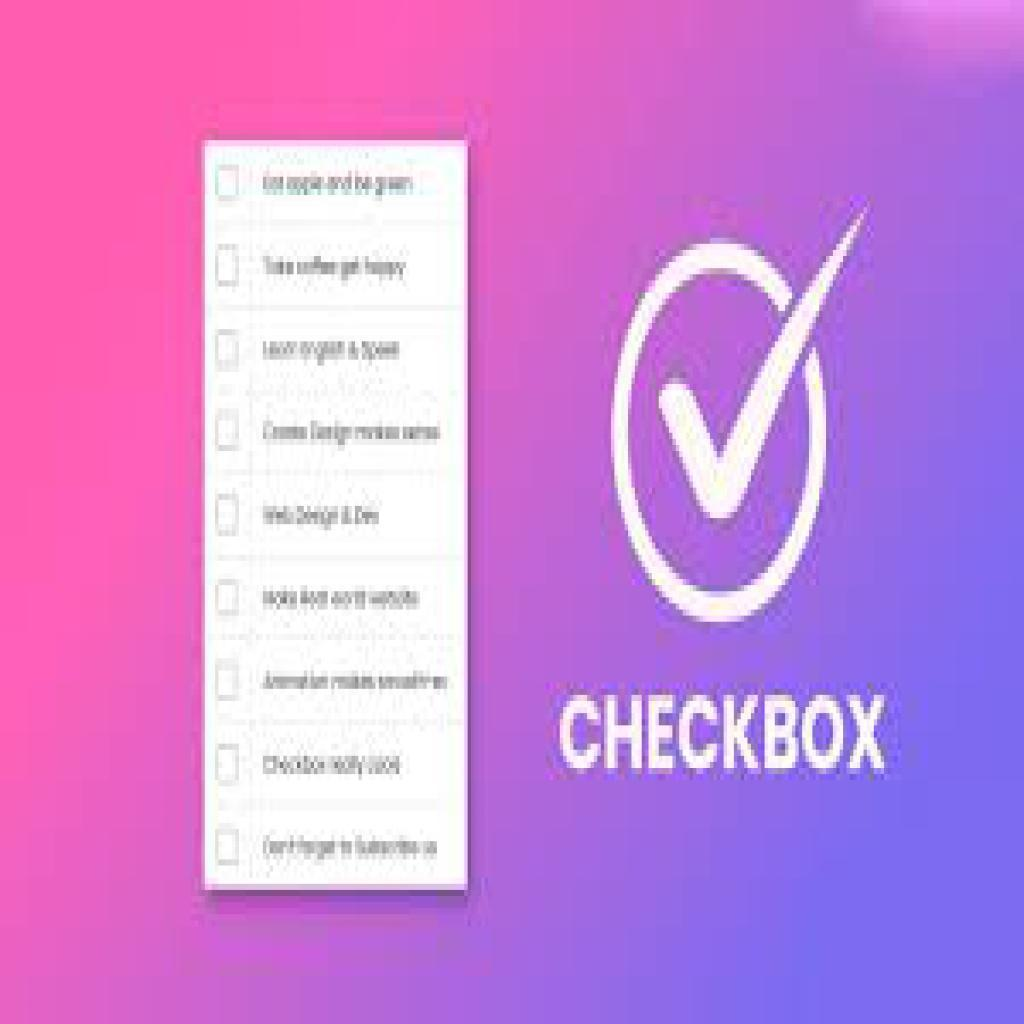checkbox: (213, 657, 244, 705), (212, 491, 241, 542), (214, 406, 244, 454), (214, 243, 243, 291), (213, 326, 241, 374), (213, 577, 242, 619), (215, 164, 242, 203), (216, 743, 240, 786), (216, 826, 238, 866)
label: (260, 831, 444, 861), (262, 667, 448, 694), (258, 584, 422, 613), (263, 423, 447, 448), (261, 171, 417, 199), (256, 501, 390, 532), (261, 255, 407, 282), (259, 337, 410, 363), (260, 753, 402, 779)
